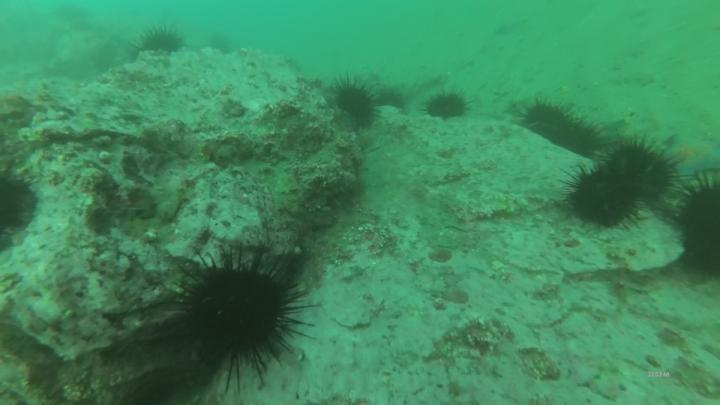echinus: (176, 260, 296, 370), (525, 103, 599, 155), (610, 146, 671, 208), (572, 170, 636, 225), (682, 184, 720, 276), (334, 84, 377, 127), (427, 93, 467, 121), (140, 31, 182, 52), (385, 86, 406, 107)
starfish: (659, 132, 720, 179)
